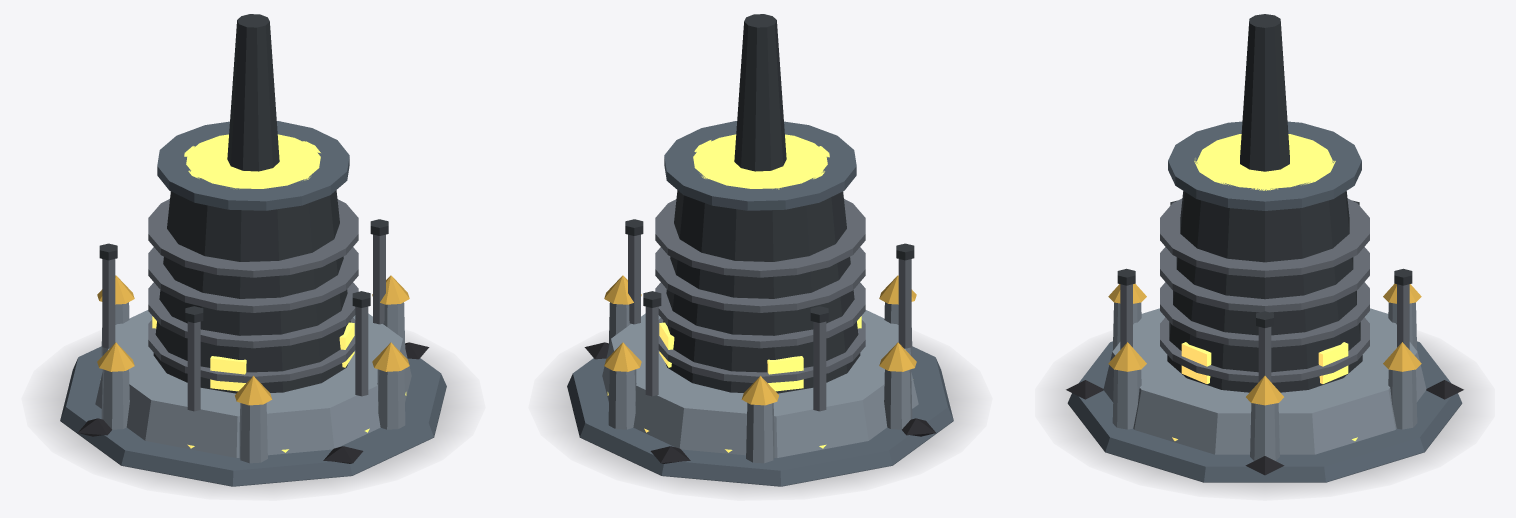
File: furnace_t2.glb
3 renders of one model, left to right at view 1: azimuth 30°, elevation 25°; view 2: azimuth 150°, elevation 25°; view 3: azimuth 270°, elevation 25°, orthographic.
Parts seen in each view (by area): view 1: furnace_t2; view 2: furnace_t2; view 3: furnace_t2.
Boxes of the visible parts, x1,y1,x2,y2 form: furnace_t2: (50,14,456,488); furnace_t2: (557,14,963,488); furnace_t2: (1064,14,1465,488).
Size of the model in its own units: 16 by 14.1 by 15.84.
